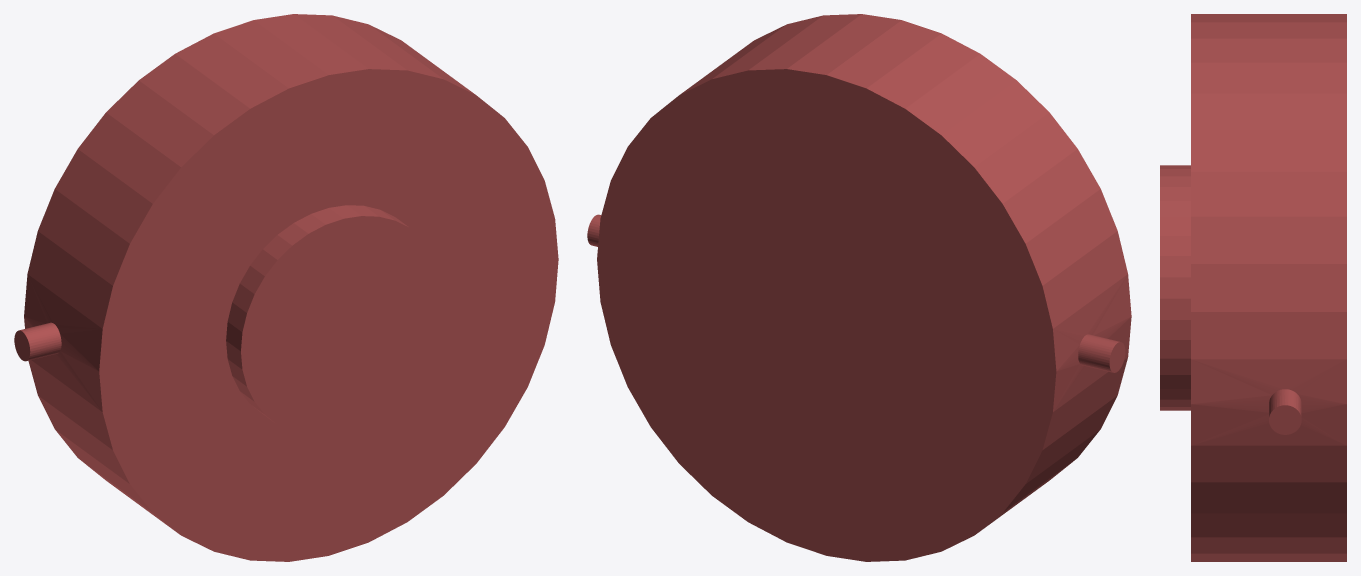
The model's file is MOT-L.glb.
3 views of the same model, side by side, from view 1: azimuth 30°, elevation 25°; view 2: azimuth 150°, elevation 25°; view 3: azimuth 270°, elevation 25° (orthographic). The views are drawn at different scales.
Parts seen in each view (by area): view 1: geometry_0; view 2: geometry_0; view 3: geometry_0.
Part boxes in pixels (x1=…): geometry_0: x1=14, y1=14, x2=558, y2=561; geometry_0: x1=587, y1=14, x2=1131, y2=561; geometry_0: x1=1160, y1=14, x2=1346, y2=561.
Bounding box in the file's own units: 305 × 268 × 91.
